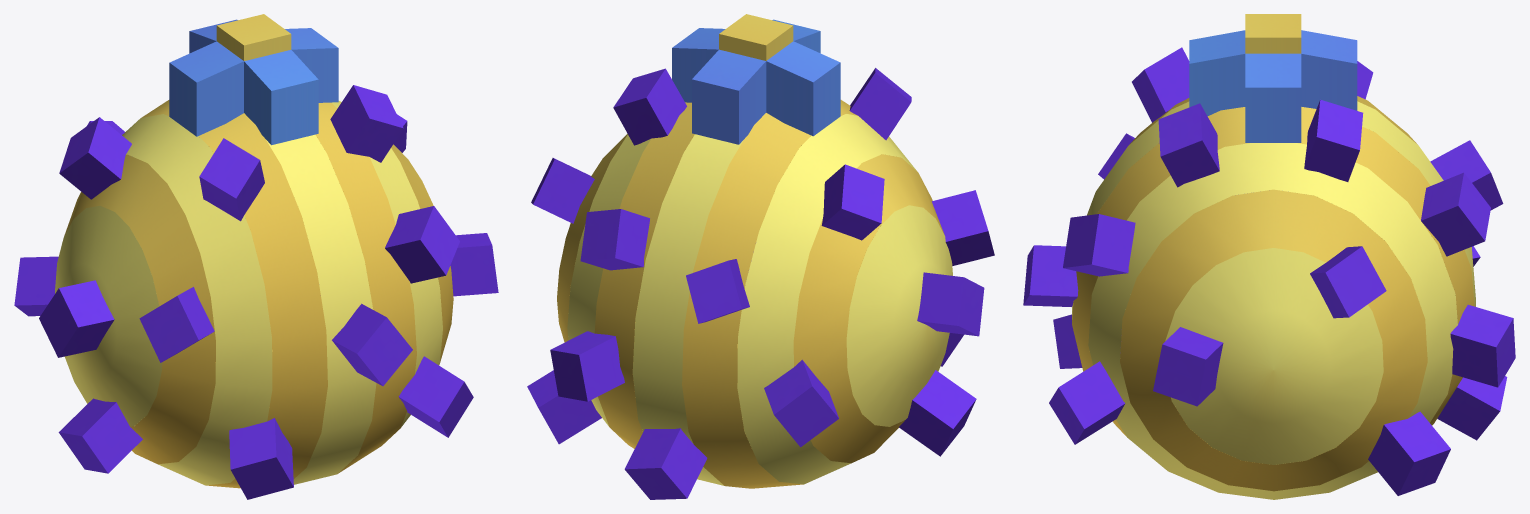
Rendered from OG_cactus1.fbx.
The picture shows the model from 3 angles, left to right: view 1: azimuth 30°, elevation 25°; view 2: azimuth 150°, elevation 25°; view 3: azimuth 270°, elevation 25°; orthographic projection. The views are drawn at different scales.
Visible parts, largest first — view 1: OG_cactus1; view 2: OG_cactus1; view 3: OG_cactus1.
Part boxes in pixels (x1,y1,x2,y2): OG_cactus1: [14, 14, 498, 499]; OG_cactus1: [527, 14, 994, 499]; OG_cactus1: [1023, 14, 1515, 499].
Size of the model in its own units: 29.15 by 29.75 by 29.43.
